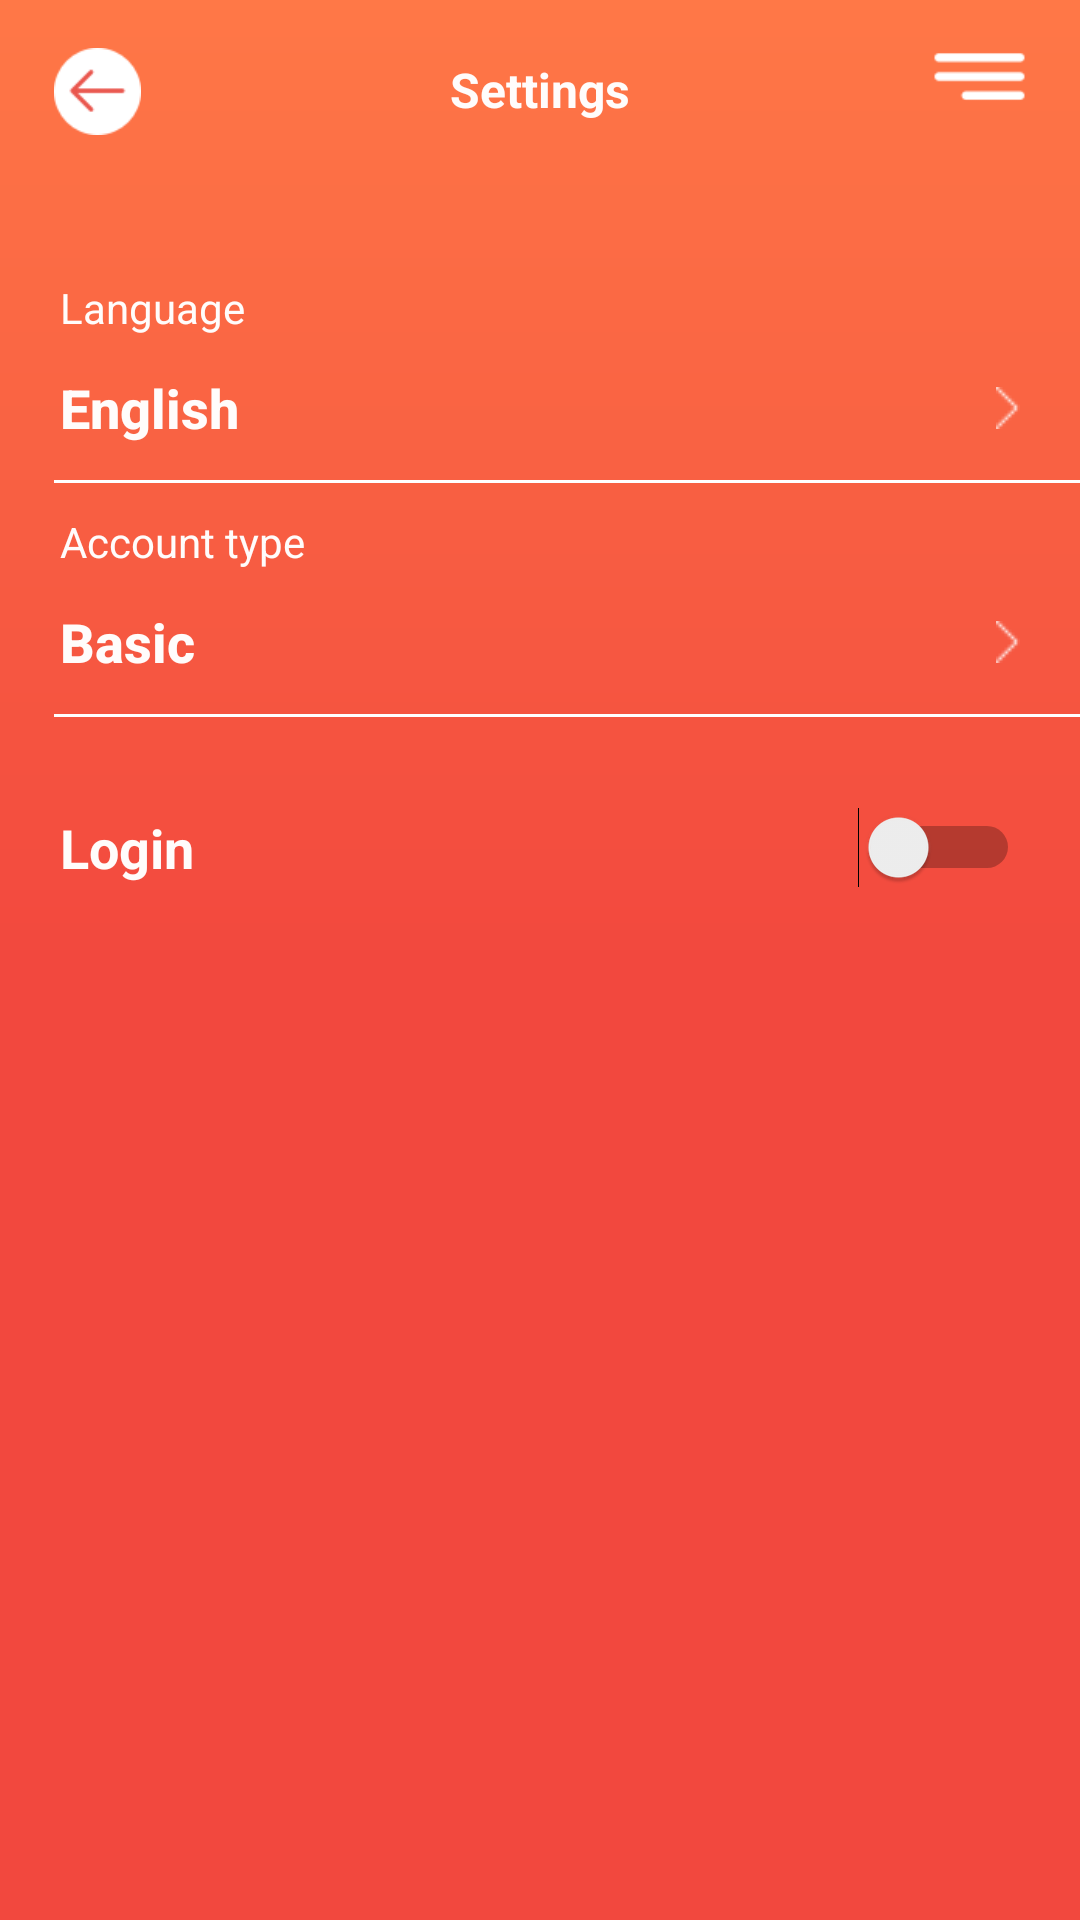

Where icons sit on this 1080px×1920px app screen, as detection(x1, y1, x2, y2):
back: detection(54, 48, 141, 135)
burgerwhite: detection(934, 53, 1025, 100)
